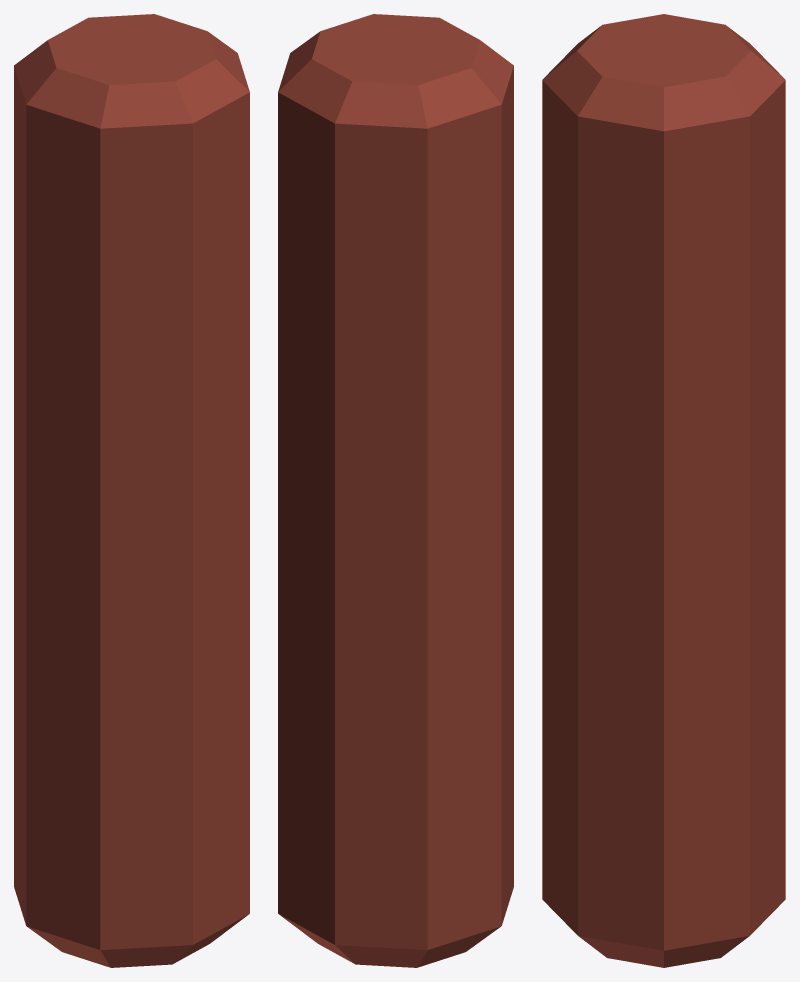
The model's file is hotdogIDK.fbx.
3 views of the same model, side by side, from view 1: azimuth 30°, elevation 25°; view 2: azimuth 150°, elevation 25°; view 3: azimuth 270°, elevation 25° (orthographic).
Parts seen in each view (by area): view 1: Hotdog; view 2: Hotdog; view 3: Hotdog.
Boxes of the visible parts, x1,y1,x2,y2 form: Hotdog: (14, 14, 249, 967); Hotdog: (278, 14, 513, 967); Hotdog: (542, 14, 785, 967).
Bounding box in the file's own units: 0.1 × 0.4 × 0.1.
